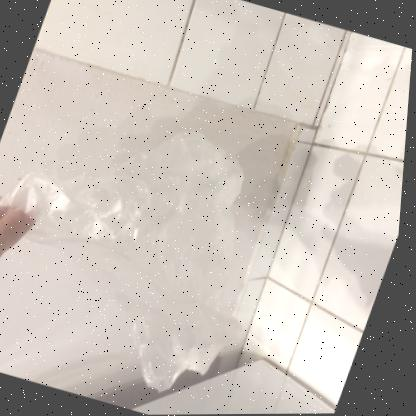Plastic: (0, 132, 247, 392)
